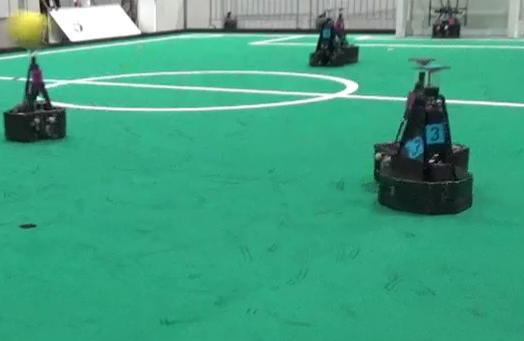robot: (373, 61, 475, 215), (4, 49, 68, 142), (305, 7, 350, 68)
